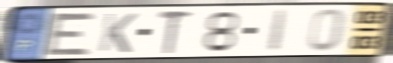0: (305, 7, 349, 54)
8: (203, 10, 242, 53)
E: (42, 11, 99, 57)
I: (265, 8, 292, 53)
K: (96, 12, 140, 54)
T: (156, 9, 195, 55)
